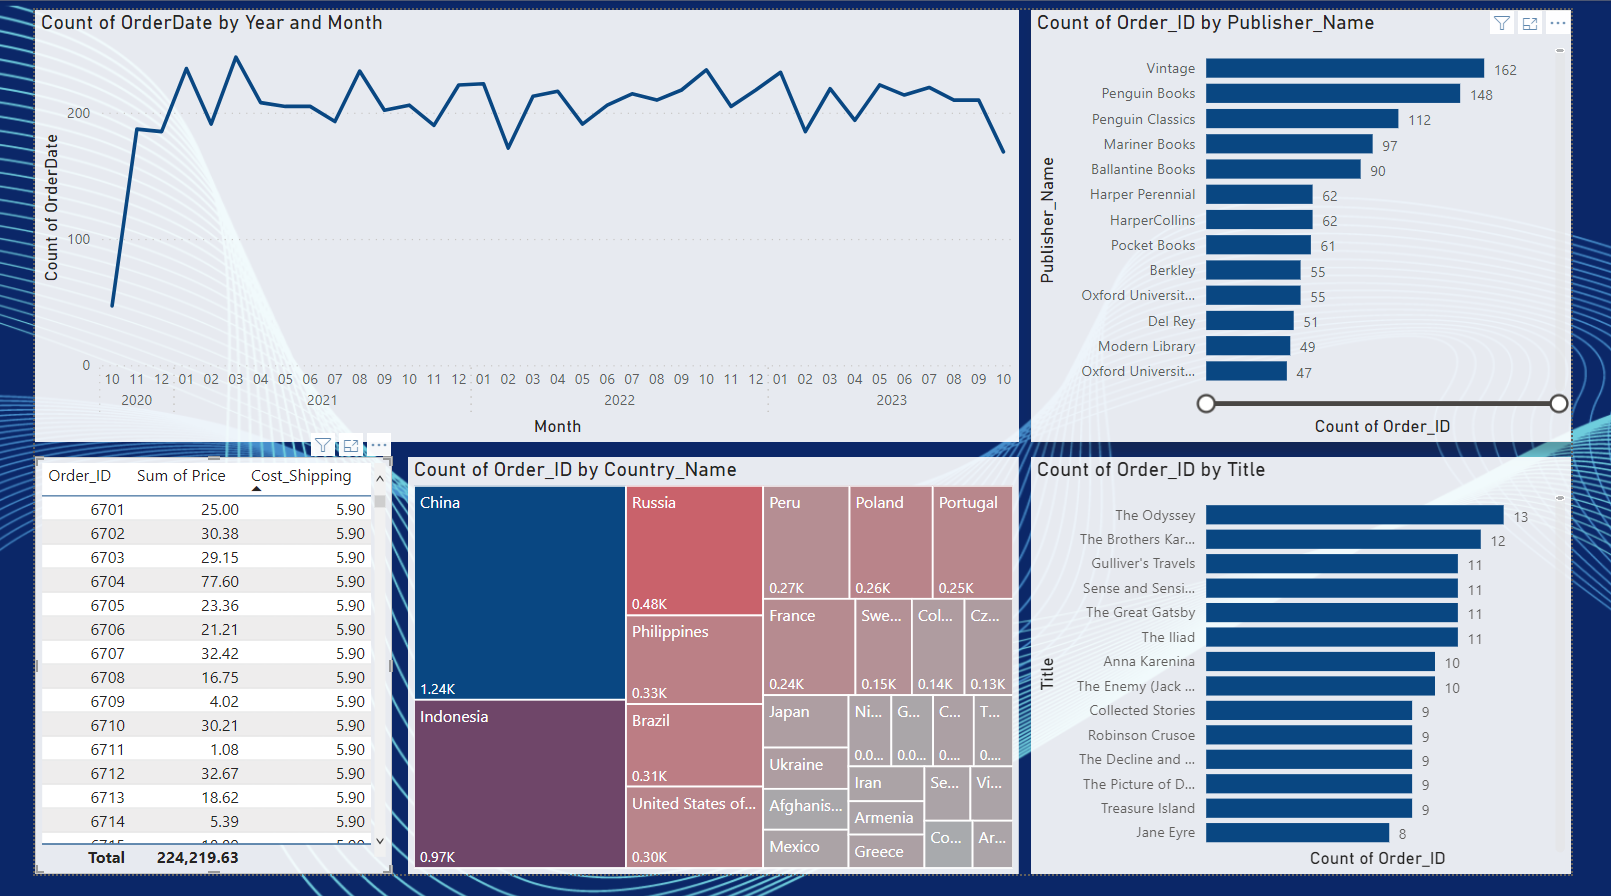

The page's visual inventory and layout, read from the dashboard file:
{"tool":"powerbi","page":{"name":"Page 1","canvas":[1280,720],"ordinal":0},"visuals":[{"type":"lineChart","fields":{"Category":["DimDate.Year","DimDate.Month","DimDate.MonthName"],"Y":["CountNonNull(FactOrders.OrderDate)"]},"box":[0,0,820.3,360],"z":0},{"type":"tableEx","fields":{"Values":["DimOrderLines.Order_ID","Sum(DimOrderLines.Price)","DimShipping.Cost_Shipping"]},"box":[0,372.9,297.4,347.1],"z":1000},{"type":"treemap","fields":{"Group":["DimAddress.Country_Name"],"Values":["CountNonNull(FactOrders.Order_ID)"]},"box":[310.8,372.5,509.2,347.5],"z":2000},{"type":"barChart","fields":{"Y":["CountNonNull(FactOrders.Order_ID)"],"Category":["DimBook.Publisher_Name"]},"box":[829.7,0,450,360],"z":3000},{"type":"barChart","fields":{"Category":["DimBook.Title"],"Y":["CountNonNull(FactOrders.Order_ID)"]},"box":[830,372.5,450,347.5],"z":4000}]}

Visuals, with their boxes in screenshot pixels (x1, y1, x2, y2), scaled from the page's 1280x720 canvas onto the 1611x896 screenshot:
lineChart - DimDate.Year x DimDate.Month: [x1=0, y1=0, x2=1032, y2=448]
tableEx - DimOrderLines.Order_ID x Sum(DimOrderLines.Price): [x1=0, y1=464, x2=374, y2=895]
treemap - DimAddress.Country_Name x CountNonNull(FactOrders.Order_ID): [x1=391, y1=464, x2=1032, y2=895]
barChart - CountNonNull(FactOrders.Order_ID) x DimBook.Publisher_Name: [x1=1044, y1=0, x2=1610, y2=448]
barChart - DimBook.Title x CountNonNull(FactOrders.Order_ID): [x1=1045, y1=464, x2=1610, y2=895]
